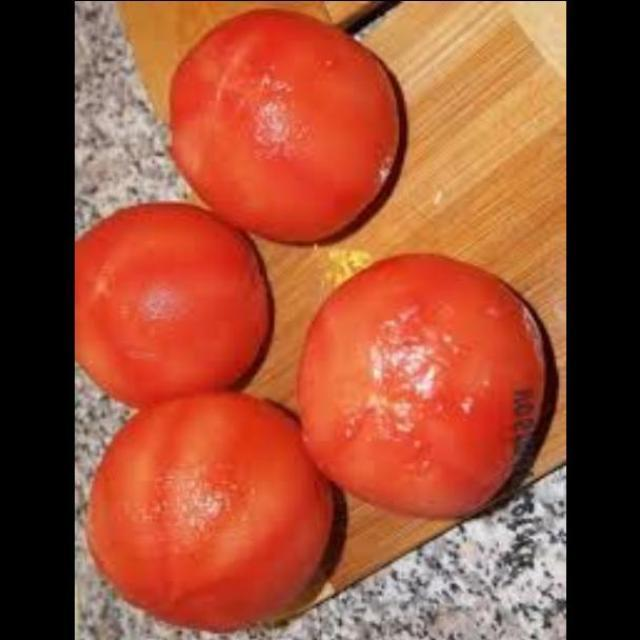Tomato: (302, 242, 566, 532), (172, 0, 422, 261), (79, 387, 332, 638), (74, 194, 274, 410)
